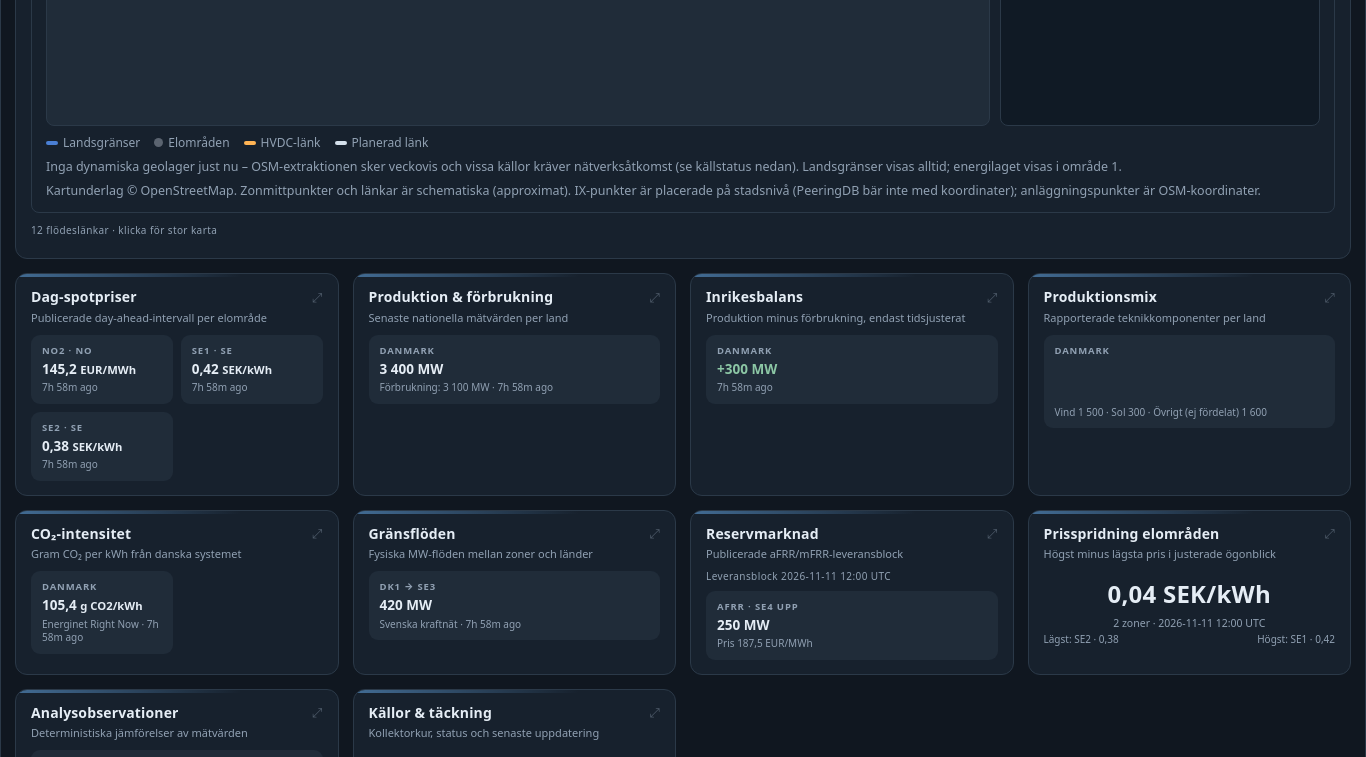
Test case: Energiwidget-dashboarden › klick på kort öppnar modalförstoring med historik och stänger med Esc
(page scrolled)
Click the button "Dag-spotpriser" at (84, 297), box top-left (15, 273), bottom-right (338, 496)
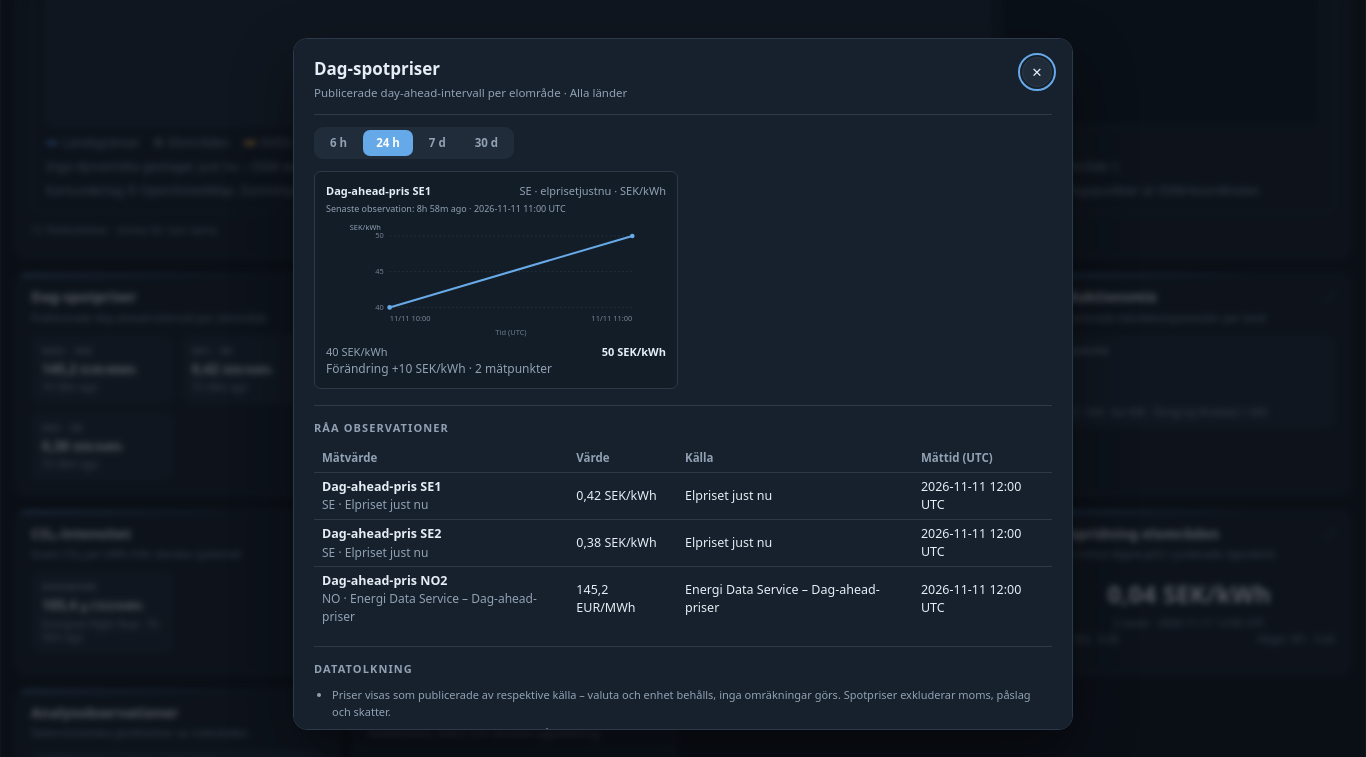
Expected: the dialog is shown
Expected: the 1st text "Dag-ahead-pris SE1" is shown, top-left (326, 183), bottom-right (431, 199)
Press Escape in the dialog, box top-left (293, 38), bottom-right (1073, 730)
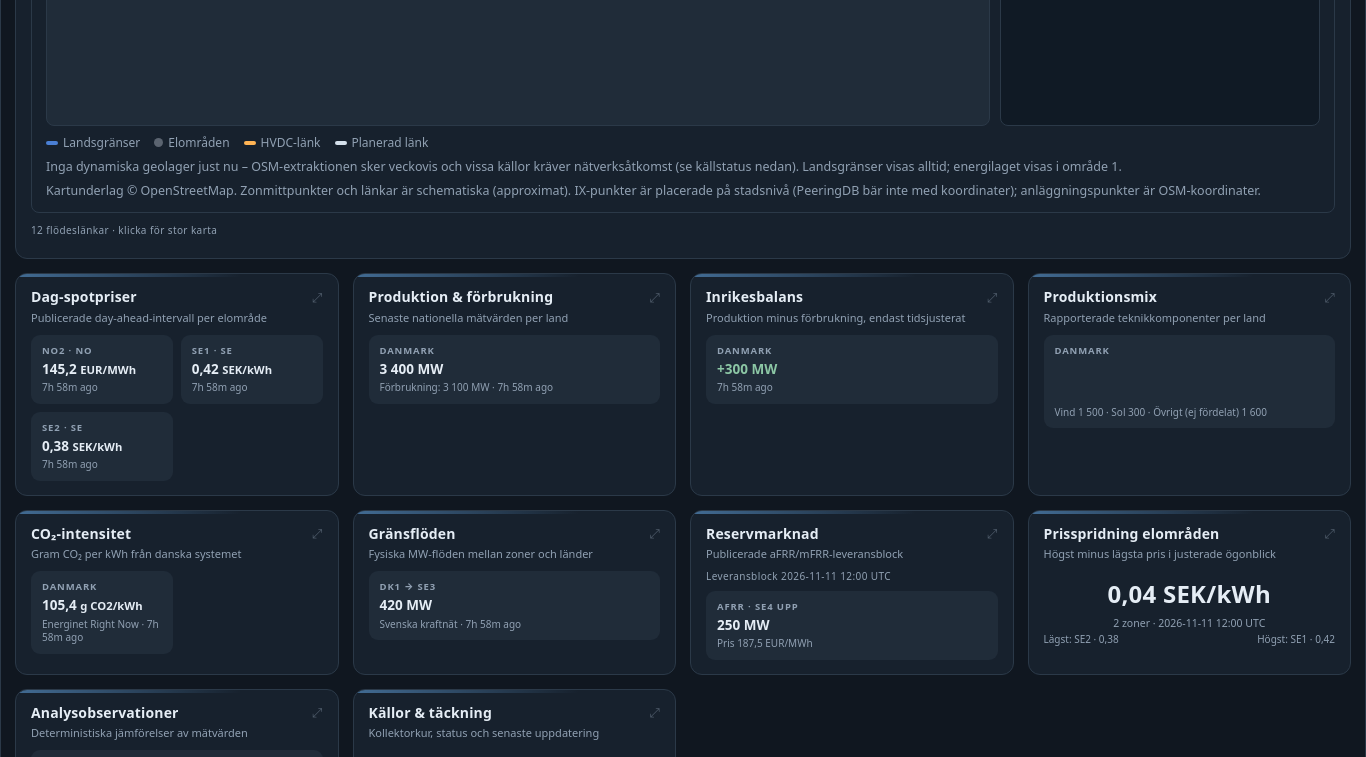
Expected: the dialog is gone
